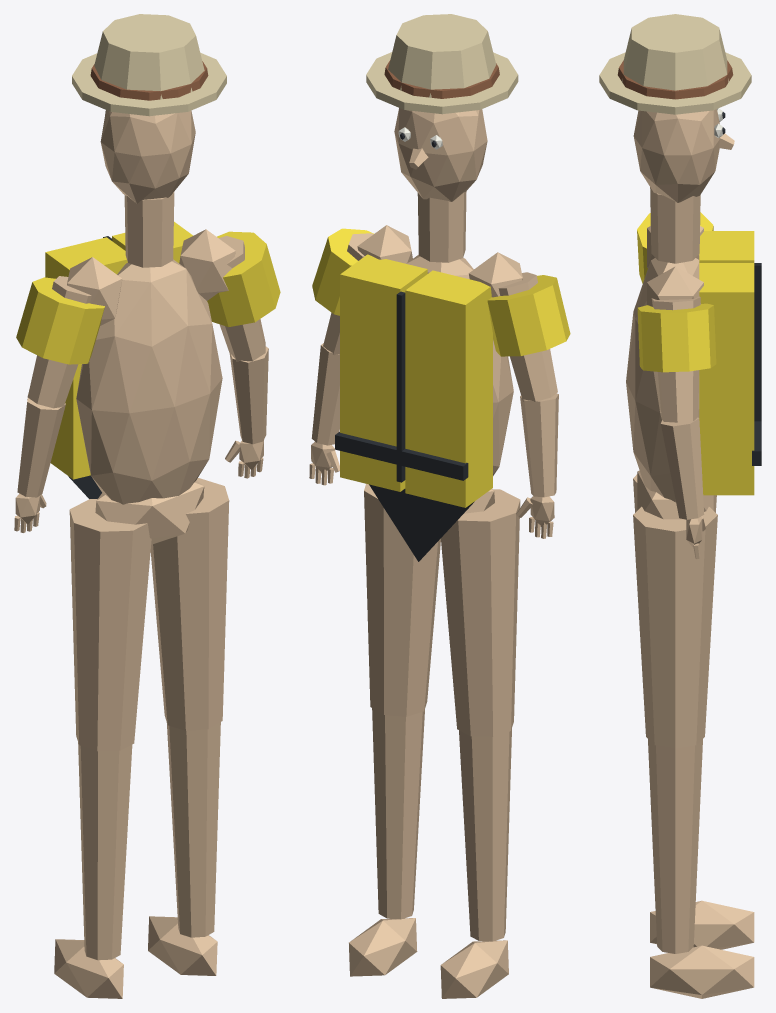
File: OutfitTourist.fbx
3 views of the same model, side by side, from view 1: azimuth 30°, elevation 25°; view 2: azimuth 150°, elevation 25°; view 3: azimuth 270°, elevation 25° (orthographic). The views are drawn at different scales.
Visible parts, largest first — view 1: Torso, ThighLeft, ThighRight, CalfLeft, CalfRight, Face, HatCrown, ArmFloat.001, LifeVestPad.001, ArmFloat, HatBrim, Neck (+11 smaller); view 2: LifeVestPad.001, ThighLeft, LifeVestPad, ThighRight, CalfLeft, CalfRight, HatCrown, Face, ArmFloat.001, HatBrim, SwimBrief, ForearmSkinLeft (+14 smaller); view 3: ThighRight, LifeVestPad, CalfRight, HatCrown, Face, Torso, ArmFloat, FootRight, HatBrim, ForearmSkinRight, Neck, FootLeft (+9 smaller).
Boxes of the visible parts, left/top/right/bottom form: Torso: left=76, top=259, right=222, bottom=504; ThighLeft: left=69, top=499, right=151, bottom=751; ThighRight: left=150, top=478, right=229, bottom=730; CalfLeft: left=78, top=742, right=132, bottom=960; CalfRight: left=167, top=722, right=220, bottom=937; Face: left=100, top=110, right=195, bottom=203; HatCrown: left=94, top=14, right=204, bottom=99; ArmFloat.001: left=16, top=277, right=104, bottom=364; LifeVestPad.001: left=45, top=237, right=127, bottom=479; ArmFloat: left=207, top=231, right=280, bottom=327; HatBrim: left=72, top=52, right=226, bottom=116; Neck: left=124, top=192, right=174, bottom=267; LifeVestPad.001: left=405, top=270, right=492, bottom=507; ThighLeft: left=441, top=489, right=520, bottom=736; LifeVestPad: left=340, top=254, right=427, bottom=491; ThighRight: left=364, top=483, right=440, bottom=716; CalfLeft: left=459, top=728, right=511, bottom=941; CalfRight: left=372, top=708, right=424, bottom=919; HatCrown: left=388, top=14, right=496, bottom=97; Face: left=394, top=108, right=487, bottom=201; ArmFloat.001: left=487, top=275, right=570, bottom=356; HatBrim: left=366, top=52, right=518, bottom=114; SwimBrief: left=369, top=484, right=474, bottom=561; ForearmSkinLeft: left=520, top=393, right=558, bottom=497; ThighRight: left=633, top=506, right=717, bottom=748; LifeVestPad: left=699, top=263, right=754, bottom=495; CalfRight: left=648, top=739, right=702, bottom=953; HatCrown: left=622, top=14, right=728, bottom=90; Face: left=633, top=109, right=719, bottom=202; Torso: left=626, top=258, right=699, bottom=502; ArmFloat: left=637, top=303, right=716, bottom=372; FootRight: left=650, top=945, right=754, bottom=998; HatBrim: left=599, top=52, right=751, bottom=114; ForearmSkinRight: left=661, top=417, right=704, bottom=519; Neck: left=650, top=187, right=700, bottom=263; FootLeft: left=650, top=900, right=754, bottom=949.
Size of the model in its own units: 0.4812 by 1.75 by 0.2727.
